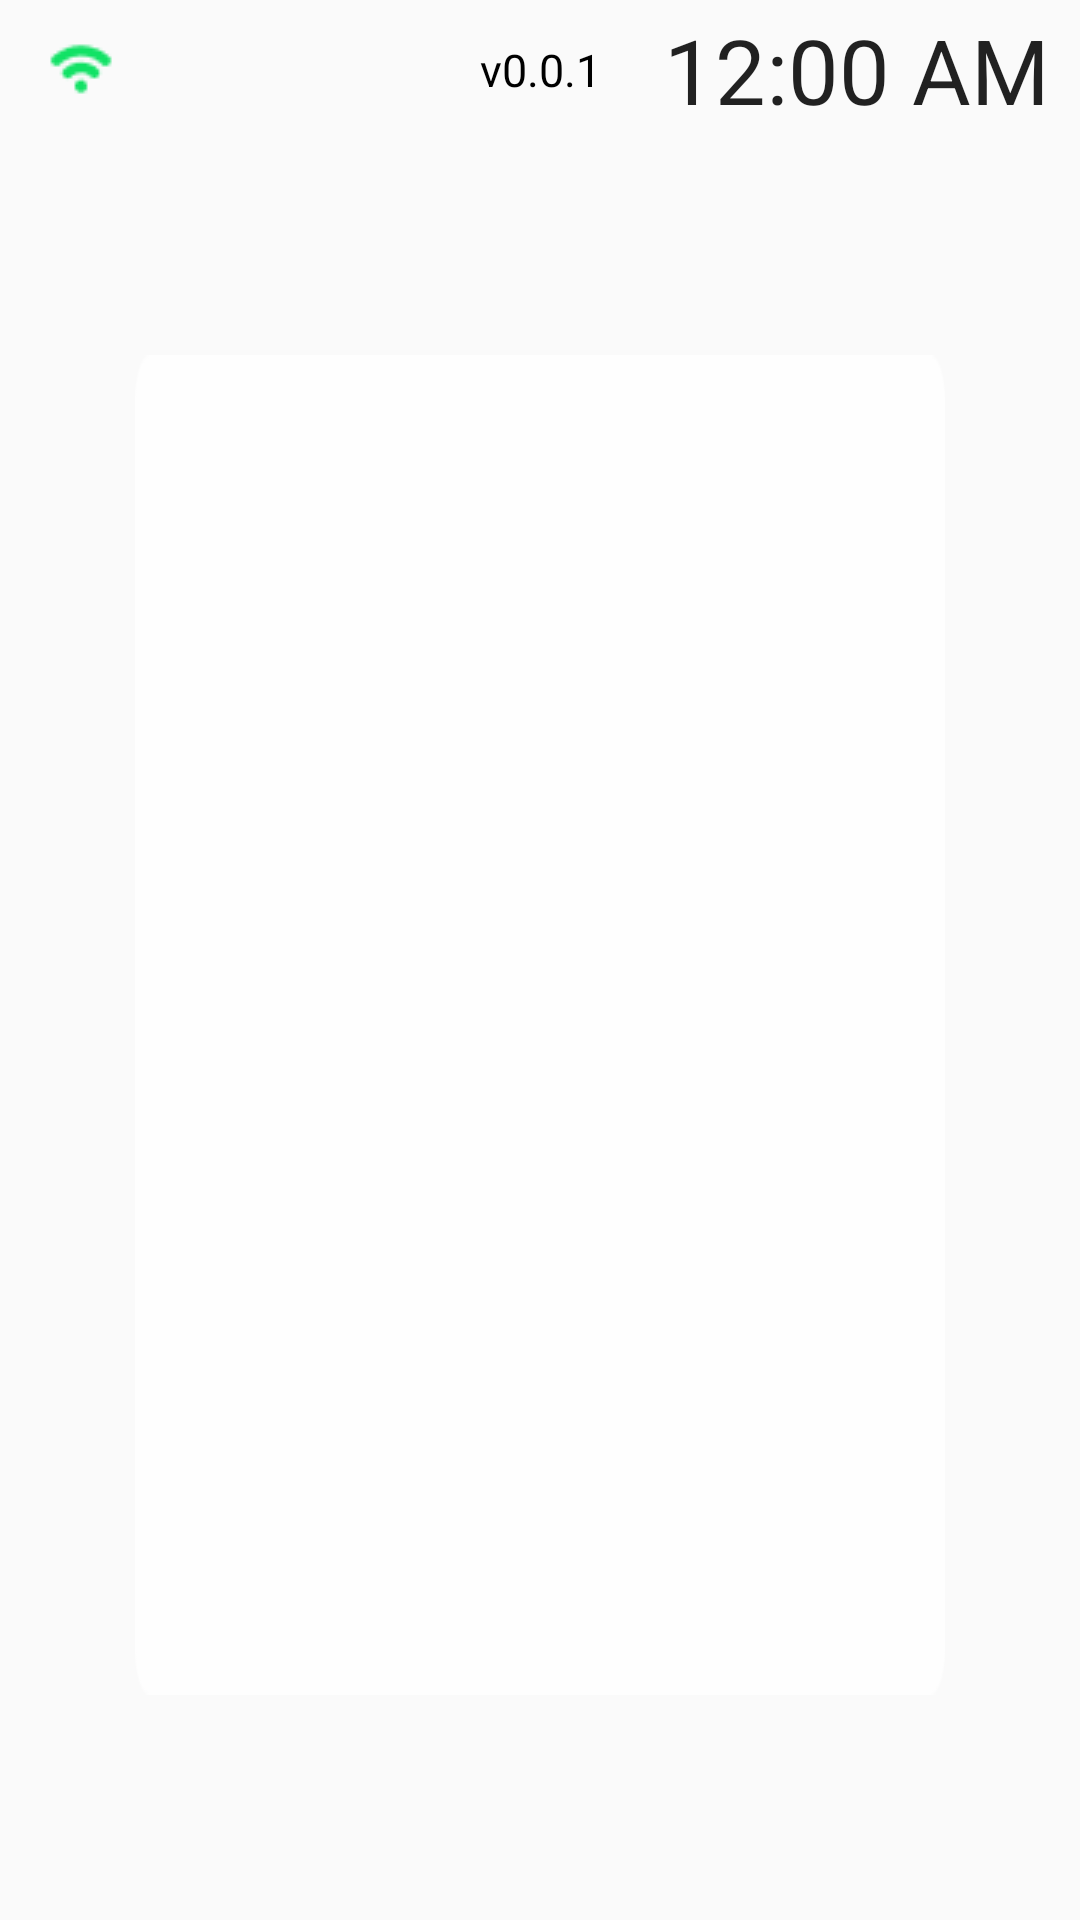

Where to tap for icons on this 1080×1920 app screen, as (x=x, y=y):
wifi: (x=81, y=69)
